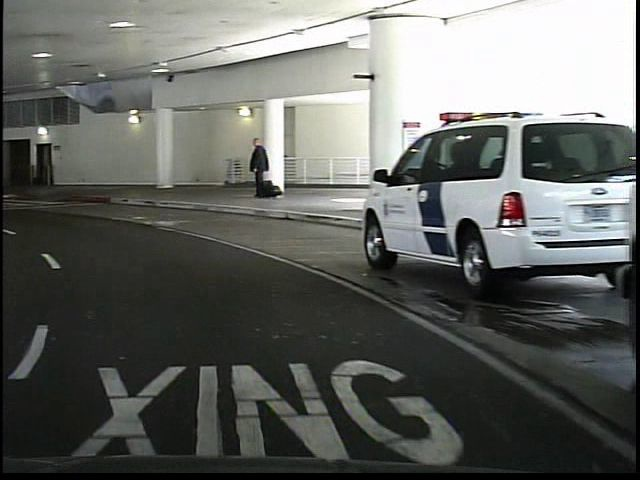person: (242, 134, 266, 202)
